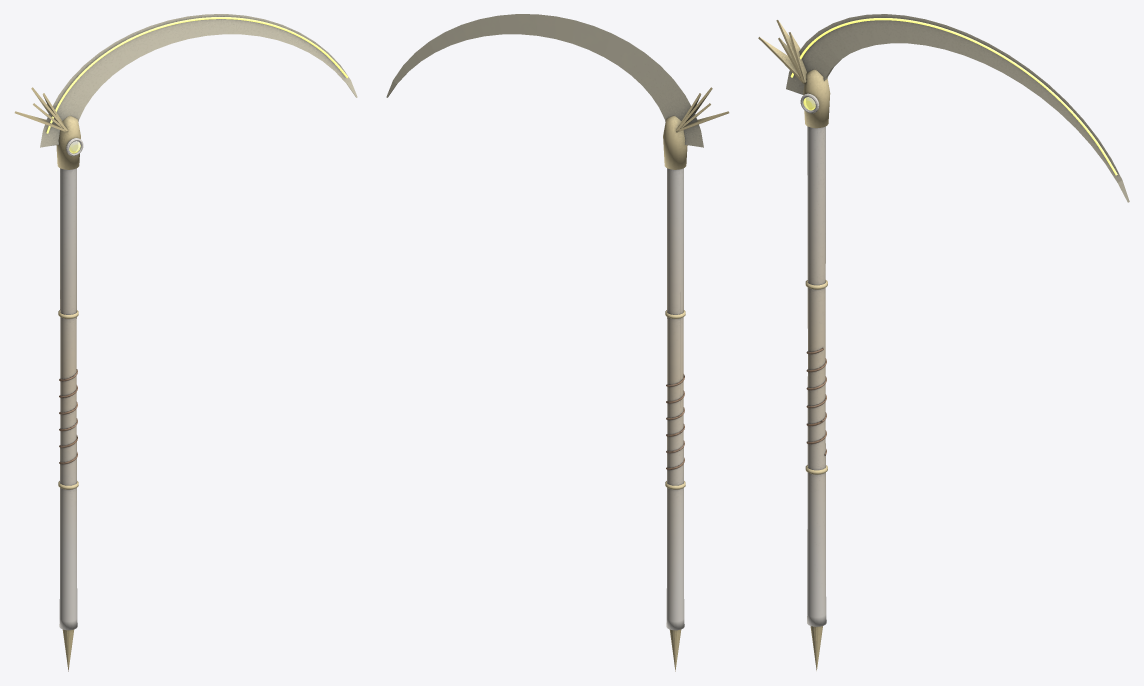
File: arma_lend_foice_celestial.glb
3 renders of one model, left to right at view 1: azimuth 30°, elevation 25°; view 2: azimuth 150°, elevation 25°; view 3: azimuth 330°, elevation 25°, orthographic. The views are drawn at different scales.
Parts seen in each view (by area): view 1: arma_lend_foice_celestial, gume; view 2: arma_lend_foice_celestial; view 3: arma_lend_foice_celestial, gume.
Boxes of the visible parts, x1,y1,x2,y2 form: arma_lend_foice_celestial: (14, 14, 357, 671); gume: (46, 17, 348, 133); arma_lend_foice_celestial: (386, 14, 729, 671); arma_lend_foice_celestial: (758, 14, 1129, 670); gume: (790, 18, 1117, 175).
Bounding box in the file's own units: 1.26 × 2.2 × 0.0873.
3 materials, 1 textured.
